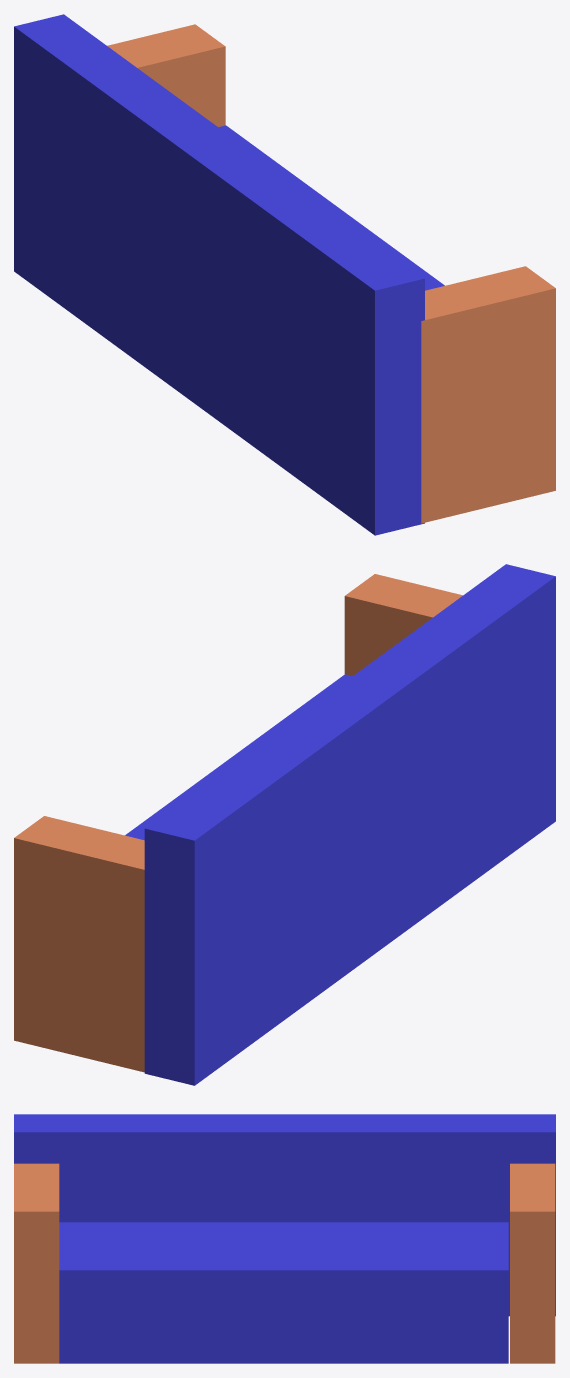
File: sofa.glb
3 views of the same model, one above another, from view 1: azimuth 30°, elevation 25°; view 2: azimuth 150°, elevation 25°; view 3: azimuth 270°, elevation 25° (orthographic). The views are drawn at different scales.
Visible parts, largest first — view 1: Cube; view 2: Cube; view 3: Cube.
Part boxes in pixels (x1,y1,x2,y2): Cube: [14, 14, 555, 535]; Cube: [14, 564, 555, 1085]; Cube: [14, 1114, 555, 1363].
Bounding box in the file's own units: 2.69 × 3.47 × 9.28.
